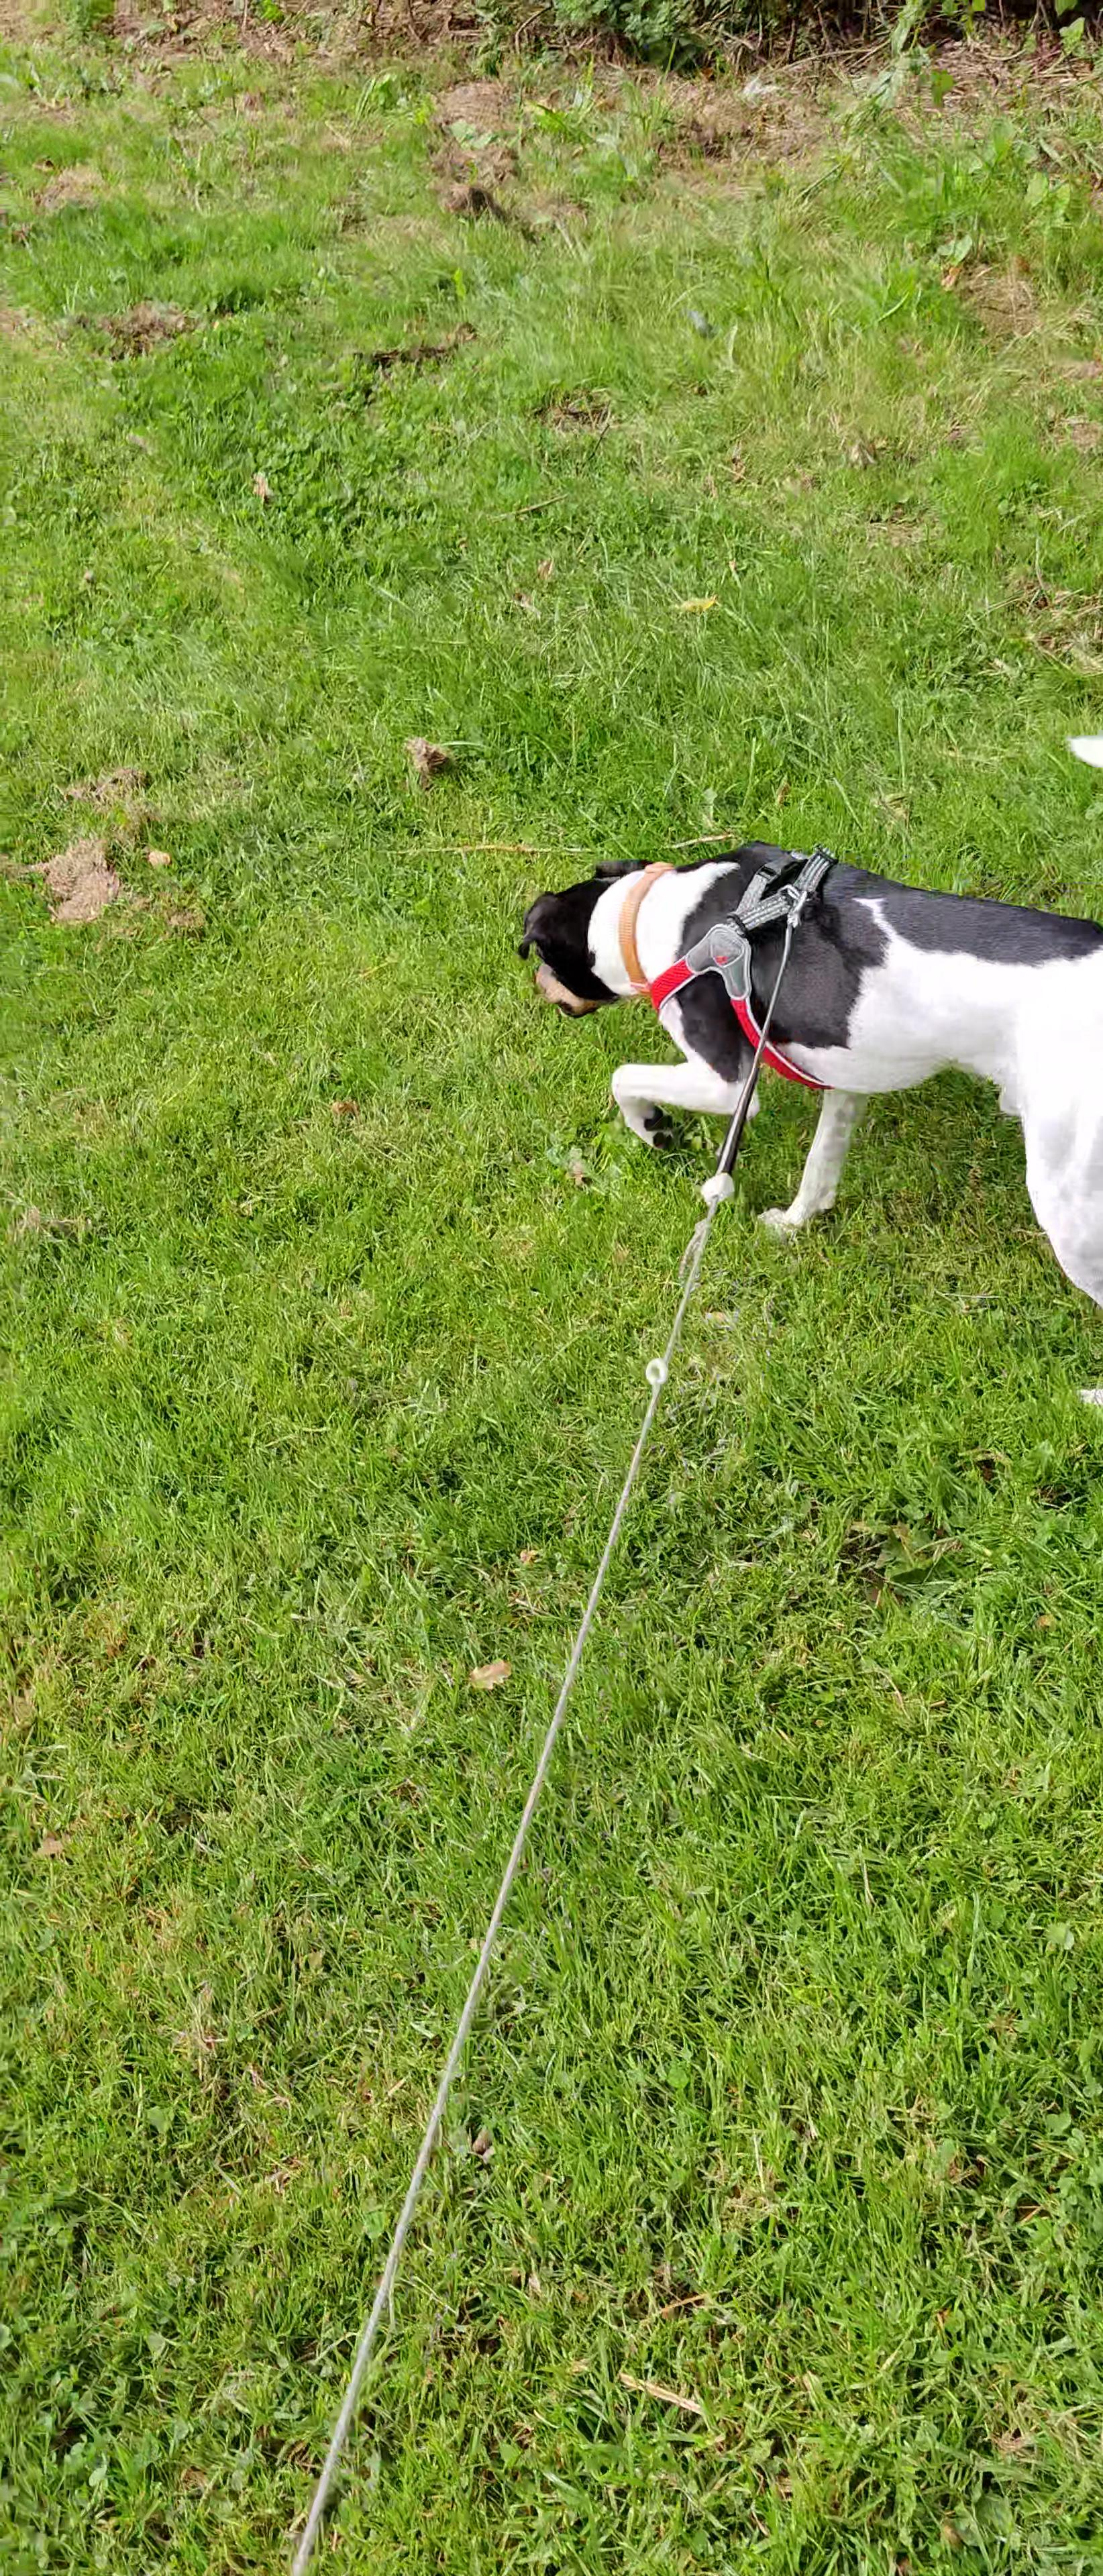Dog: (485, 726, 1103, 1405)
